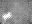person: (2, 15, 11, 23)
